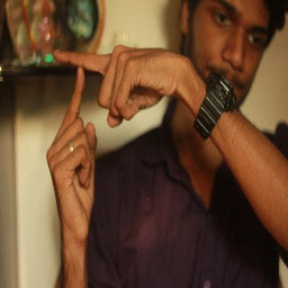T: (38, 35, 129, 158)
